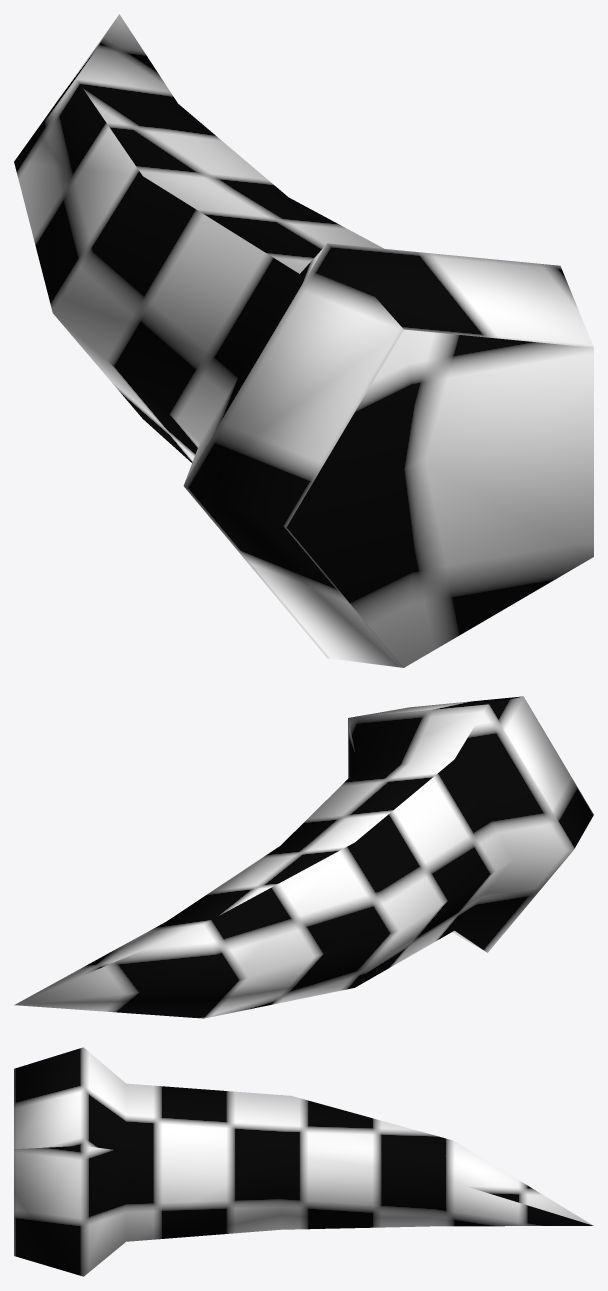
Rendered from initlitr34.dae.
3 renders of one model, top to bottom at view 1: azimuth 30°, elevation 25°; view 2: azimuth 150°, elevation 25°; view 3: azimuth 270°, elevation 25°, orthographic. The views are drawn at different scales.
Visible parts, largest first — view 1: item; view 2: item; view 3: item.
Part boxes in pixels (<box>): item: <box>14,14,593,667</box>; item: <box>14,696,593,1018</box>; item: <box>14,1047,593,1276</box>.
Size of the model in its own units: 0.7935 by 1.79 by 0.7223.
Materials: 1 (1 with a texture image).
